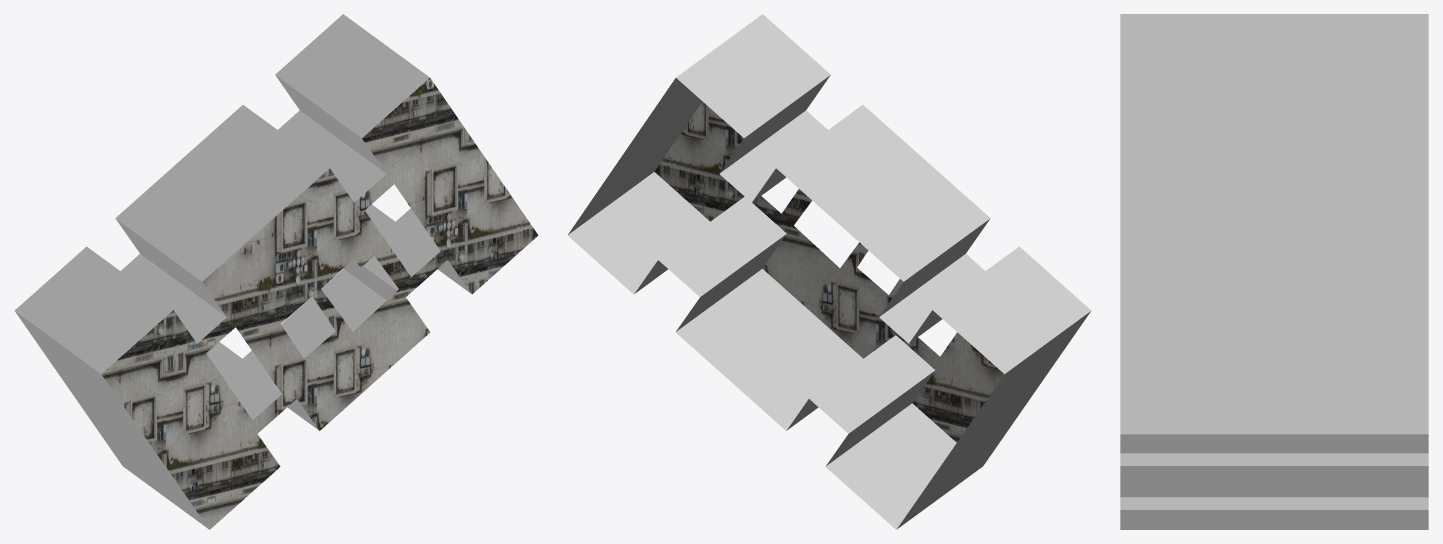
The model's file is geospecific_102.obj.
3 views of the same model, side by side, from view 1: azimuth 30°, elevation 25°; view 2: azimuth 150°, elevation 25°; view 3: azimuth 270°, elevation 25° (orthographic). The views are drawn at different scales.
Visible parts, largest first — view 1: Building; view 2: Building; view 3: Building.
Boxes of the visible parts, box(x1,y1,x2,y2) form: Building: box(14, 14, 538, 529); Building: box(567, 14, 1091, 529); Building: box(1120, 14, 1428, 529).
Bounding box in the file's own units: 52.27 × 45.55 × 18.
